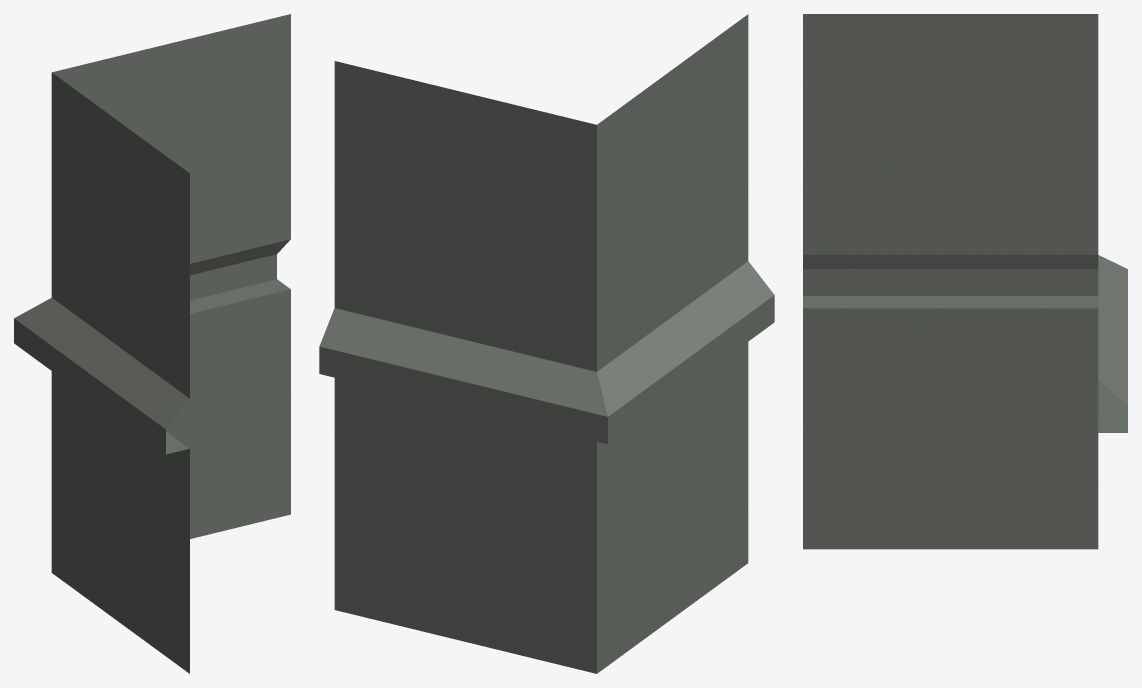
The model's file is Corner.fbx.
The picture shows the model from 3 angles, left to right: view 1: azimuth 30°, elevation 25°; view 2: azimuth 150°, elevation 25°; view 3: azimuth 270°, elevation 25°; orthographic projection. The views are drawn at different scales.
Visible parts, largest first — view 1: Corner; view 2: Corner; view 3: Corner.
Part boxes in pixels (bbox=[...]): Corner: bbox=[14, 14, 290, 673]; Corner: bbox=[319, 14, 774, 673]; Corner: bbox=[803, 14, 1127, 549].
Size of the model in its own units: 1100 by 2000 by 1100.
